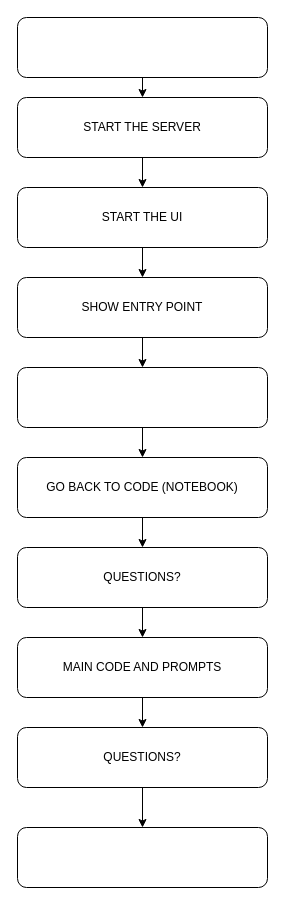
Image size: 285x905. Some labels were removed from this diagram. The centre of each missing label's shape, as x and y in pixels:
"CHATBOT IN ACTION" belongs at (x=142, y=397).
"GO BACK TO UI (ATTENDEE QUESTIONS TO THE CHATBOT)" belongs at (x=142, y=857).
"README" belongs at (x=142, y=47).
